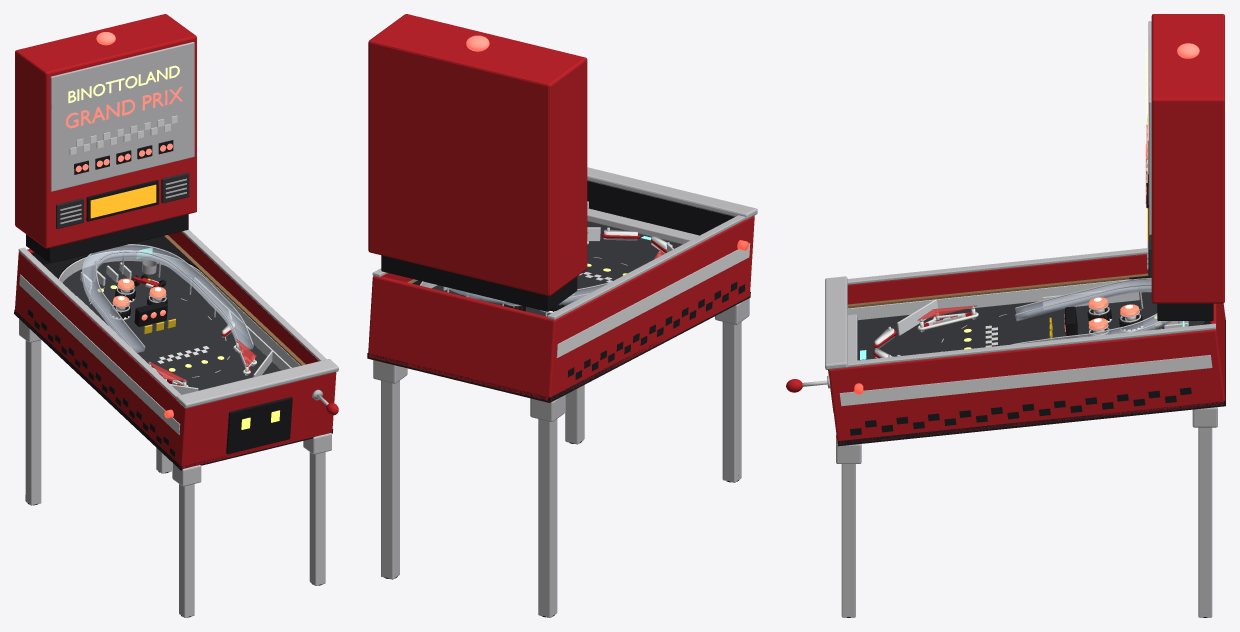
Rendered from flipper.glb.
3 views of the same model, side by side, from view 1: azimuth 30°, elevation 25°; view 2: azimuth 150°, elevation 25°; view 3: azimuth 270°, elevation 25° (orthographic). The views are drawn at different scales.
Visible parts, largest first — view 1: flipper_mobile, display; view 2: flipper_mobile; view 3: flipper_mobile.
Part boxes in pixels (x1,y1,x2,y2): flipper_mobile: (14,14,338,617); display: (90,184,156,218); flipper_mobile: (367,14,757,617); flipper_mobile: (825,14,1225,617).
Size of the model in its own units: 0.8437 by 2.27 by 1.69.
